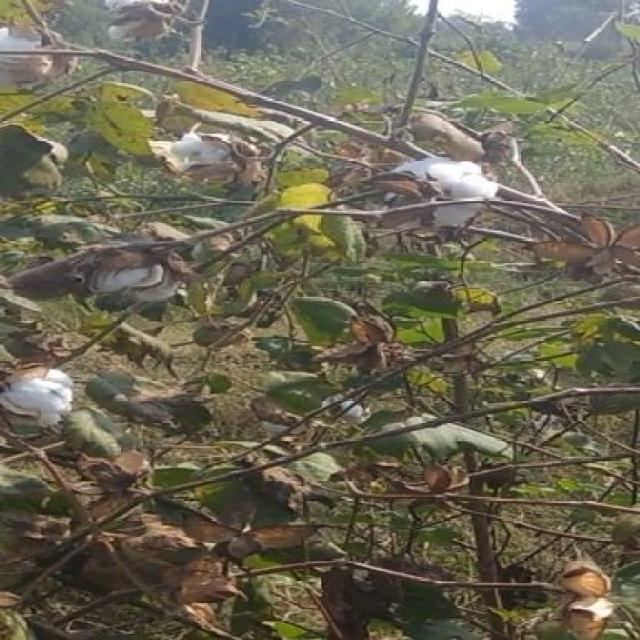cotton_ready: (378, 144, 538, 250), (1, 350, 138, 438)
